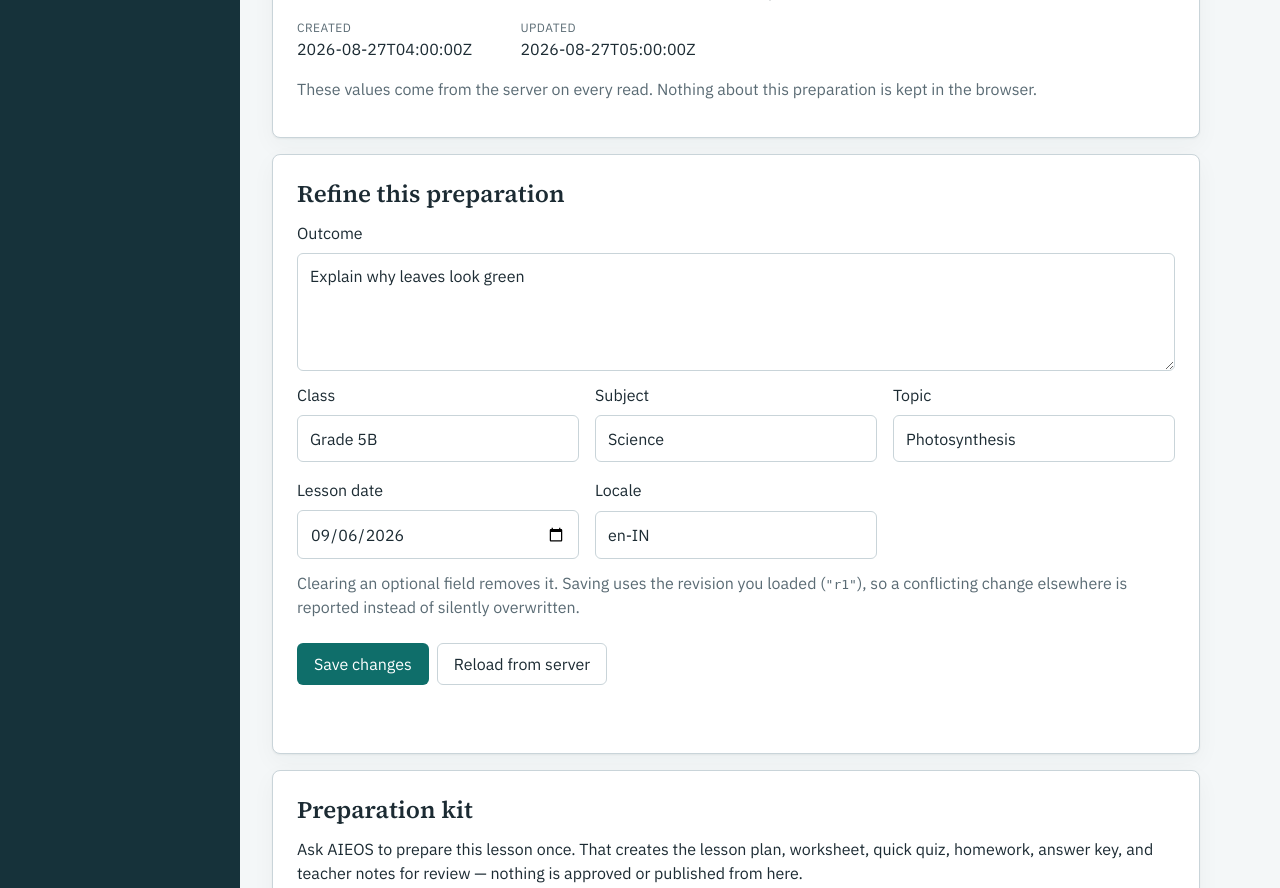
Test: G. Work refinement uses If-Match and Idempotency-Key › on 412 refreshes from the server and reports the stale load
(page scrolled)
Expected: the heading "Refine this preparation" is shown, 297,176 -> 564,210
Replace the text in the field labelled "Topic" with "Stale edit" at x=1034, y=439, box 893,415 -> 1175,462
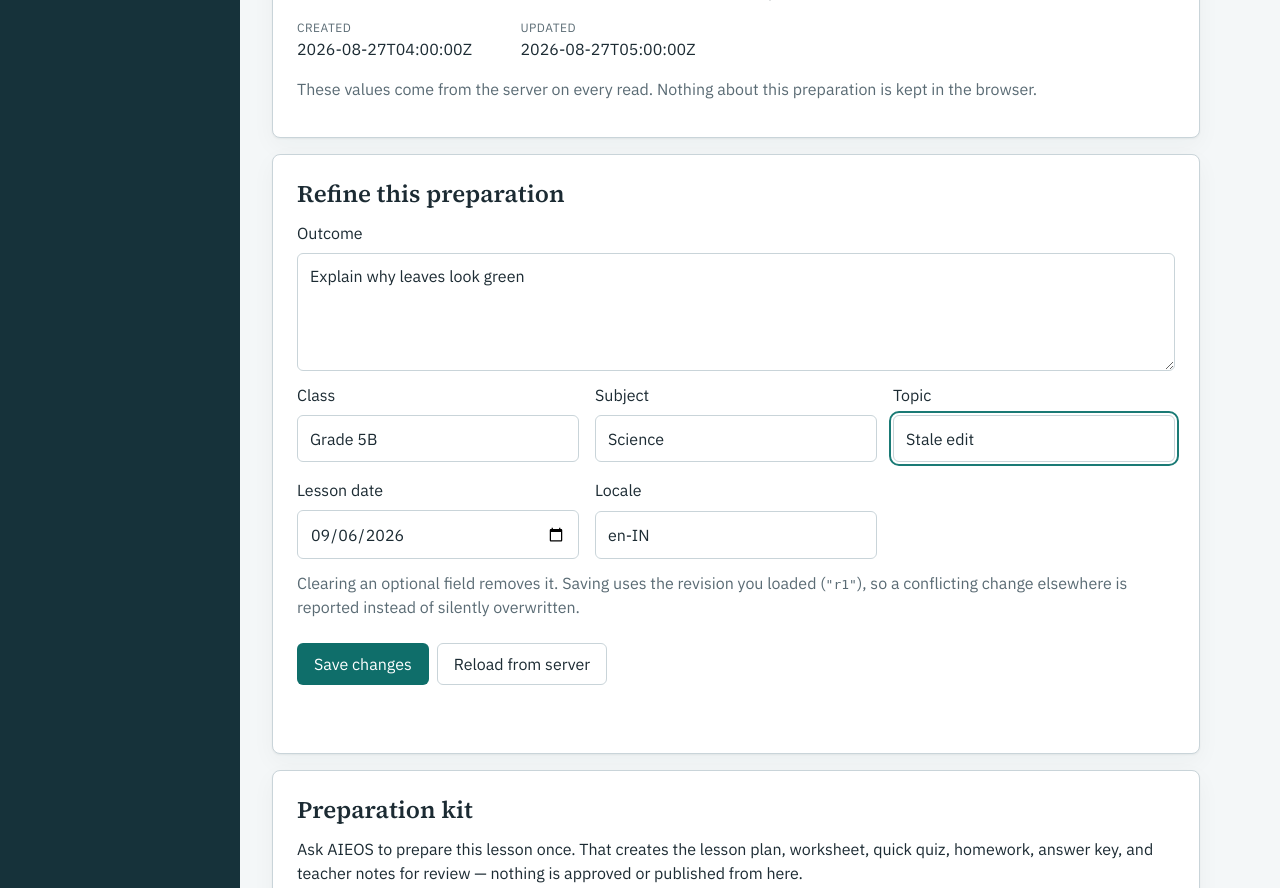
Click the button "Save changes" at x=363, y=664, box 297,643 -> 429,685
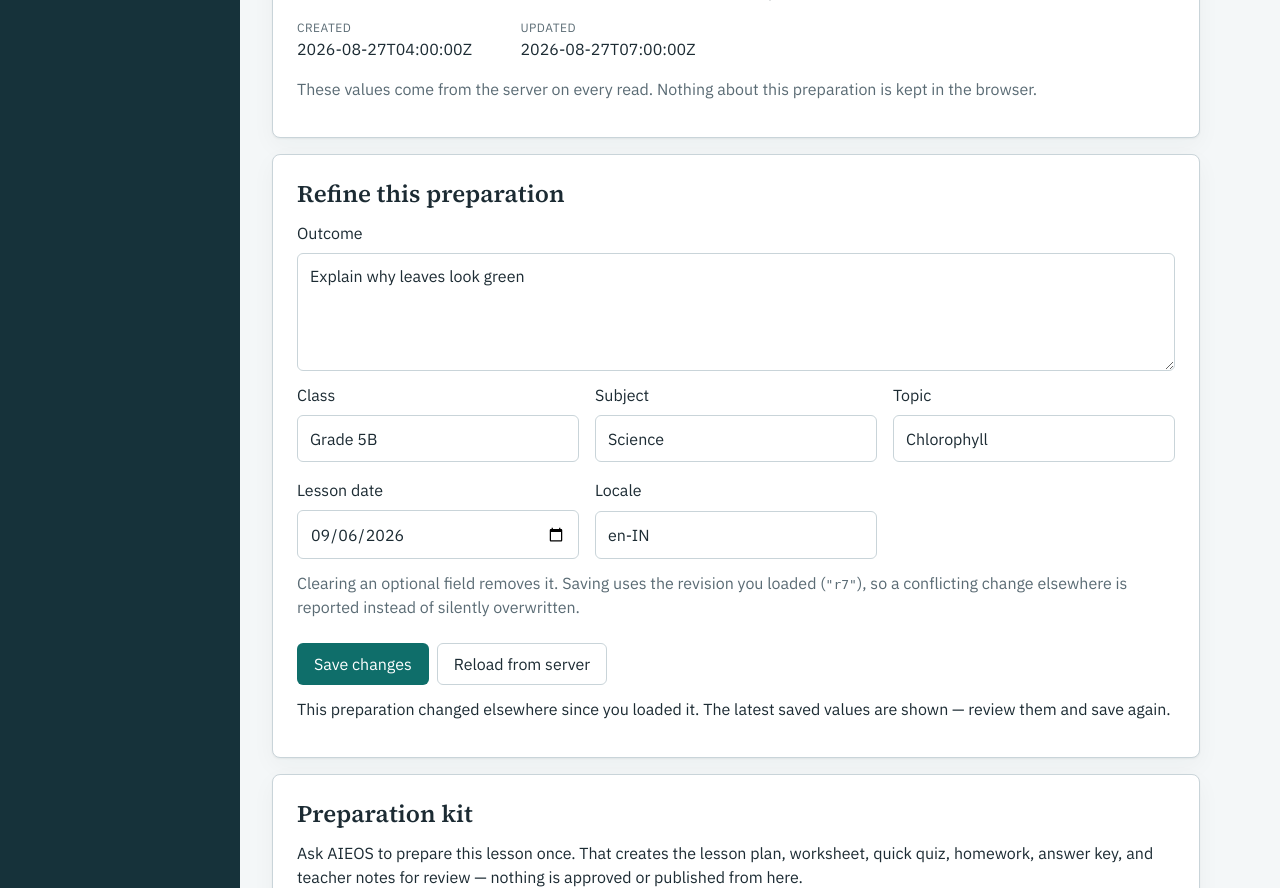
Now the text "changed elsewhere since you loaded it" is shown, box 297,699 -> 1171,719
Now the field labelled "Topic" holds "Chlorophyll", box 893,415 -> 1175,462
